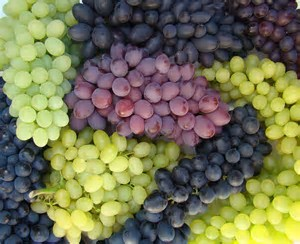Black grapes: (134, 122, 263, 239), (90, 7, 238, 51)
Green grapes: (8, 5, 64, 145), (53, 147, 135, 211)
Red Grapes: (87, 57, 220, 137)
